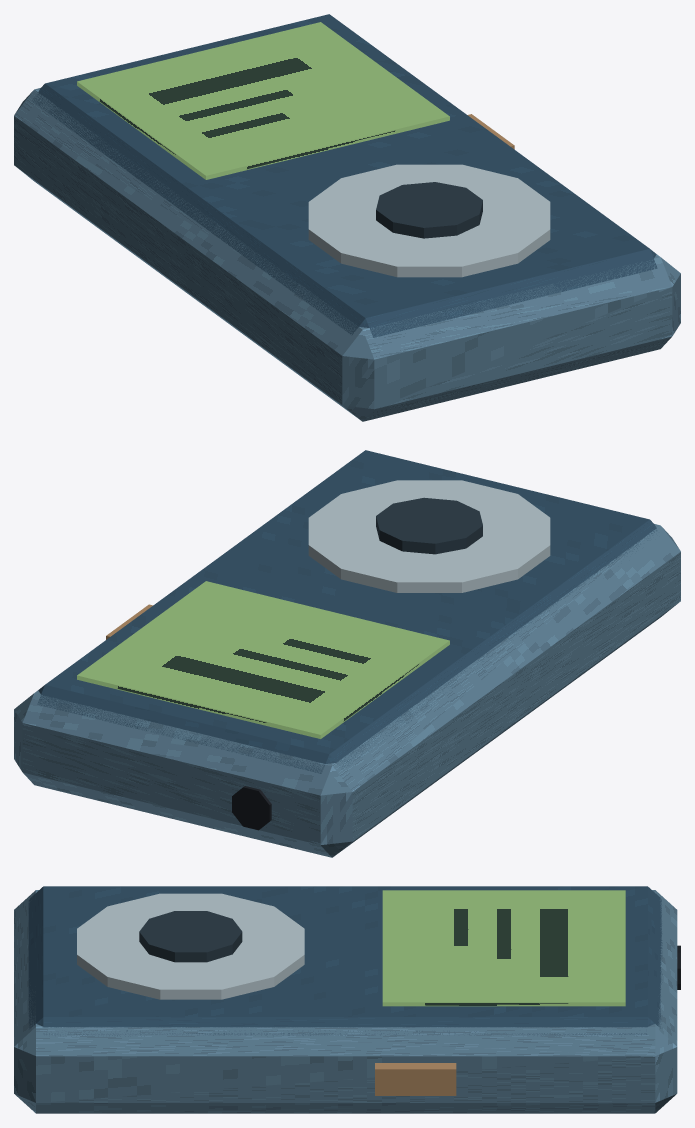
The picture shows the model from 3 angles, top to bottom: view 1: azimuth 30°, elevation 25°; view 2: azimuth 150°, elevation 25°; view 3: azimuth 270°, elevation 25°; orthographic projection. The views are drawn at different scales.
Parts seen in each view (by area): view 1: block_aluminium shell, block_faceplate, block_LCD, block_control wheel, block_play button; view 2: block_aluminium shell, block_faceplate, block_LCD, block_control wheel, block_play button, block_headphone socket; view 3: block_aluminium shell, block_faceplate, block_LCD, block_control wheel, block_play button, block_hold switch.
Part boxes in pixels (x1,y1,x2,y2): block_aluminium shell: (14, 88, 680, 421); block_faceplate: (32, 14, 657, 337); block_LCD: (77, 22, 449, 179); block_control wheel: (308, 164, 550, 277); block_play button: (376, 182, 482, 238); block_aluminium shell: (14, 524, 680, 857); block_faceplate: (37, 450, 657, 773); block_LCD: (77, 581, 449, 738); block_control wheel: (308, 480, 550, 592); block_play button: (376, 497, 482, 554); block_headphone socket: (232, 786, 271, 830); block_aluminium shell: (14, 890, 677, 1113); block_faceplate: (28, 886, 662, 1036); block_LCD: (382, 890, 625, 1006); block_control wheel: (77, 893, 304, 999); block_play button: (139, 911, 242, 962); block_hold switch: (375, 1063, 456, 1095).
Bounding box in the file's own units: 0.052 × 0.017 × 0.0905.
Materials: 2 (2 with a texture image).
